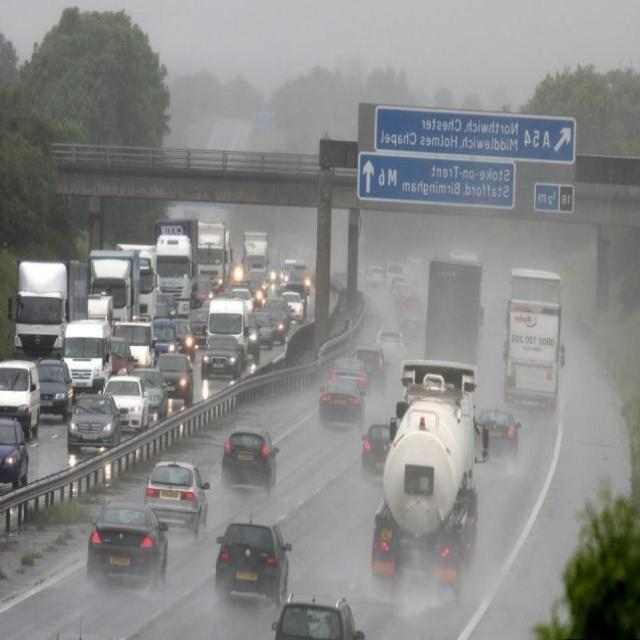Car: (86, 501, 169, 592), (214, 516, 292, 605), (145, 460, 209, 534), (272, 592, 364, 640), (218, 425, 278, 494), (66, 391, 122, 452), (99, 374, 149, 435), (476, 404, 522, 462), (318, 376, 365, 428), (36, 358, 73, 419), (154, 352, 194, 407), (0, 415, 29, 488), (202, 334, 243, 382), (132, 366, 169, 419), (353, 344, 391, 393), (326, 356, 370, 394), (362, 423, 390, 478), (371, 329, 410, 364), (110, 336, 138, 375), (280, 288, 306, 326), (246, 312, 262, 364), (258, 312, 277, 349), (269, 306, 287, 345), (366, 266, 385, 292)
Truck: (370, 358, 490, 601), (7, 255, 90, 360), (423, 246, 486, 368), (503, 295, 563, 421), (149, 215, 200, 318), (86, 246, 140, 329), (116, 241, 160, 321), (197, 220, 229, 293), (509, 267, 563, 310), (242, 228, 270, 287)
Van: (61, 316, 113, 396), (0, 358, 42, 438), (201, 297, 249, 363), (113, 319, 158, 371)
